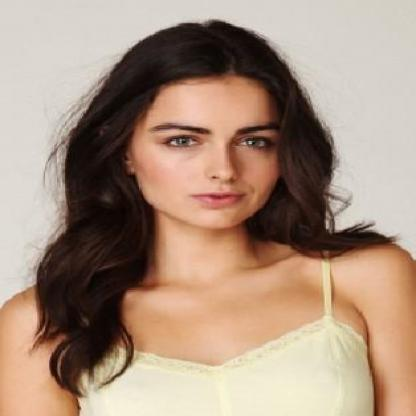long-hair: (40, 228, 362, 257)
